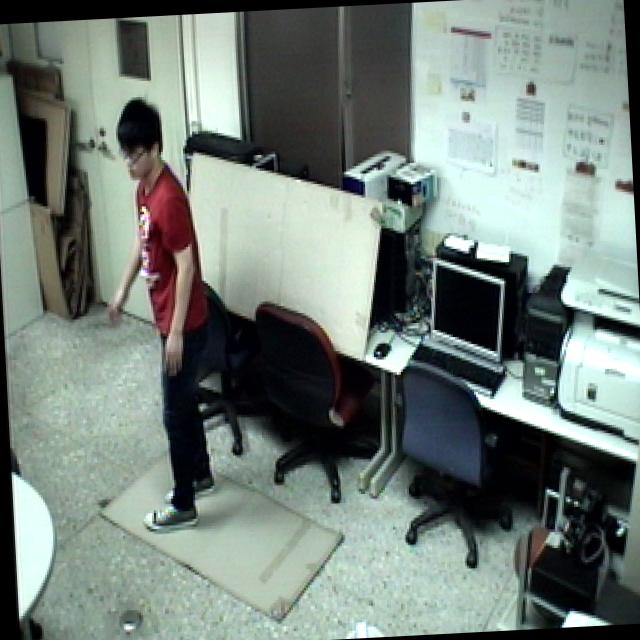stand: (72, 88, 227, 546)
